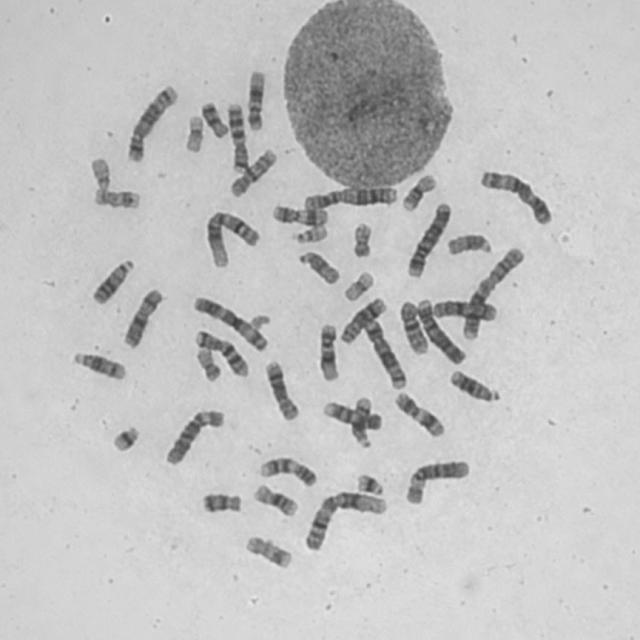A1: (300, 487, 390, 553), (201, 207, 261, 270)
A2: (458, 243, 527, 343), (300, 182, 400, 212)
A3: (189, 292, 270, 352), (475, 166, 554, 227)
B4: (402, 198, 453, 280), (412, 295, 468, 366)
B5: (122, 80, 179, 164), (359, 315, 408, 391)
C10: (226, 145, 279, 199), (396, 297, 429, 357)
C11: (391, 388, 446, 439), (269, 201, 330, 227)
C12: (242, 66, 267, 132), (315, 320, 341, 382)
C6: (160, 405, 227, 467), (401, 456, 471, 507)
C7: (190, 326, 250, 380), (224, 99, 250, 175)
C8: (336, 294, 388, 346), (260, 357, 300, 423)
C9: (255, 453, 318, 489), (320, 398, 383, 432)
D13: (88, 254, 136, 306), (446, 366, 501, 404)
D14: (68, 348, 127, 383), (347, 394, 374, 450)
D15: (295, 247, 341, 286), (443, 230, 494, 258)
E16: (249, 481, 300, 519), (398, 170, 438, 212)
E17: (241, 532, 293, 571), (89, 184, 141, 211)
E18: (198, 98, 230, 140), (198, 489, 244, 516)
F19: (340, 268, 375, 304), (180, 110, 205, 154)
F20: (192, 345, 222, 383), (348, 219, 374, 259)
G21: (108, 422, 142, 454), (353, 469, 385, 497)
G22: (86, 153, 112, 191), (290, 223, 329, 245)
X: (119, 285, 164, 350), (428, 296, 499, 322)
